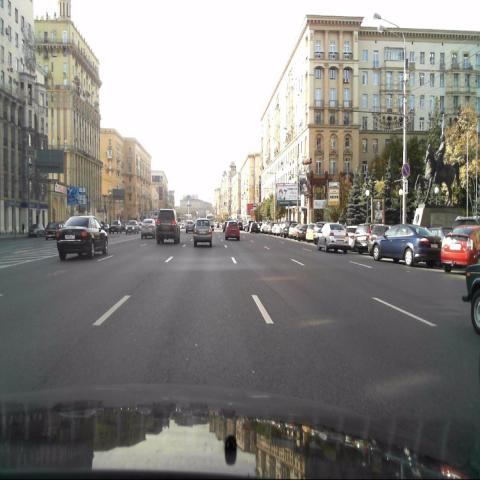3_28: (401, 163, 411, 179)
